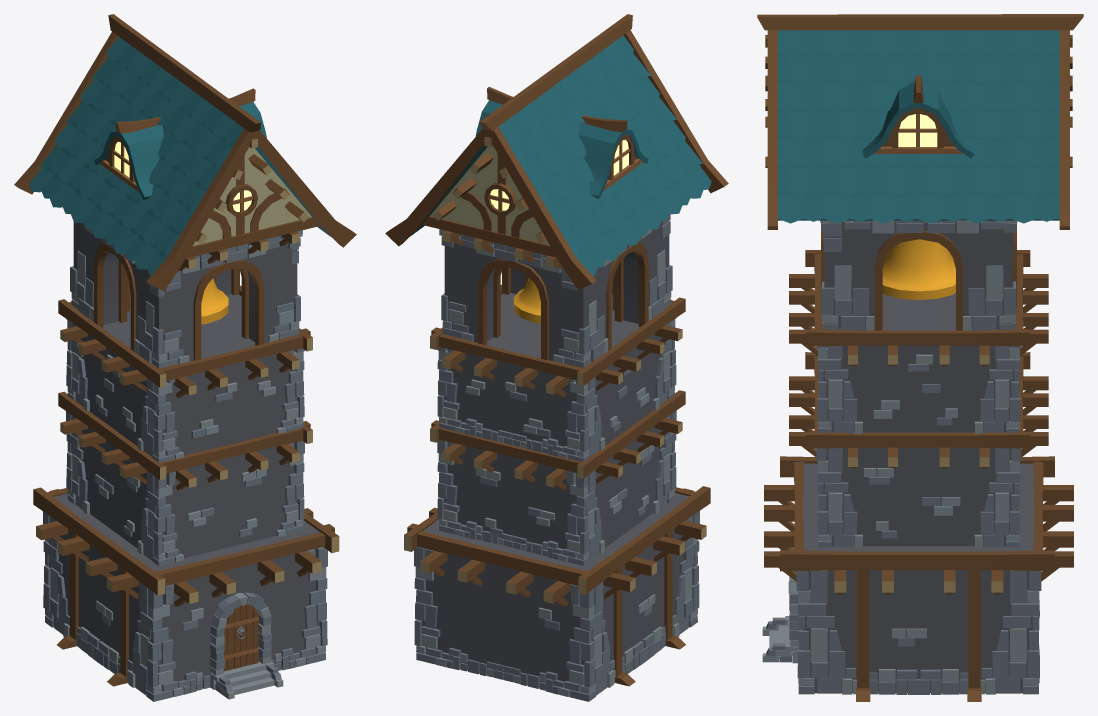
The model's file is Bell_Tower.glb.
The picture shows the model from 3 angles, left to right: view 1: azimuth 30°, elevation 25°; view 2: azimuth 150°, elevation 25°; view 3: azimuth 270°, elevation 25°; orthographic projection. The views are drawn at different scales.
Parts seen in each view (by area): view 1: Bell_Tower; view 2: Bell_Tower; view 3: Bell_Tower.
Part boxes in pixels (x1,y1,x2,y2): Bell_Tower: (14, 14, 356, 701); Bell_Tower: (385, 14, 728, 701); Bell_Tower: (757, 14, 1083, 701).
Size of the model in its own units: 1.94 by 4.76 by 2.23.
